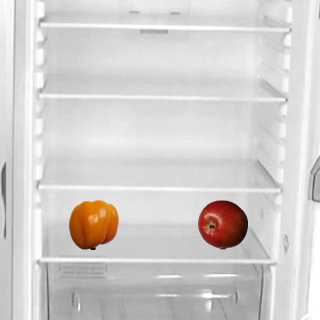Apple Braeburn: (197, 199, 247, 249)
Pepper Yellow: (68, 199, 118, 249)
